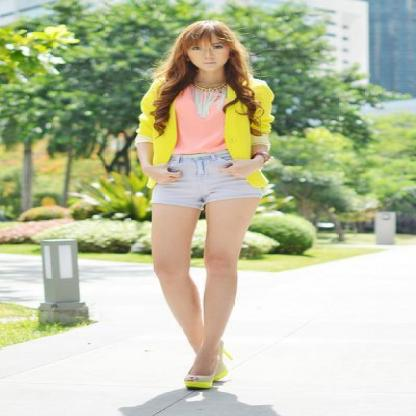jacket: (137, 75, 286, 187)
shirt: (172, 89, 226, 154)
shoe: (174, 368, 226, 390)
shorts: (150, 150, 274, 207)
